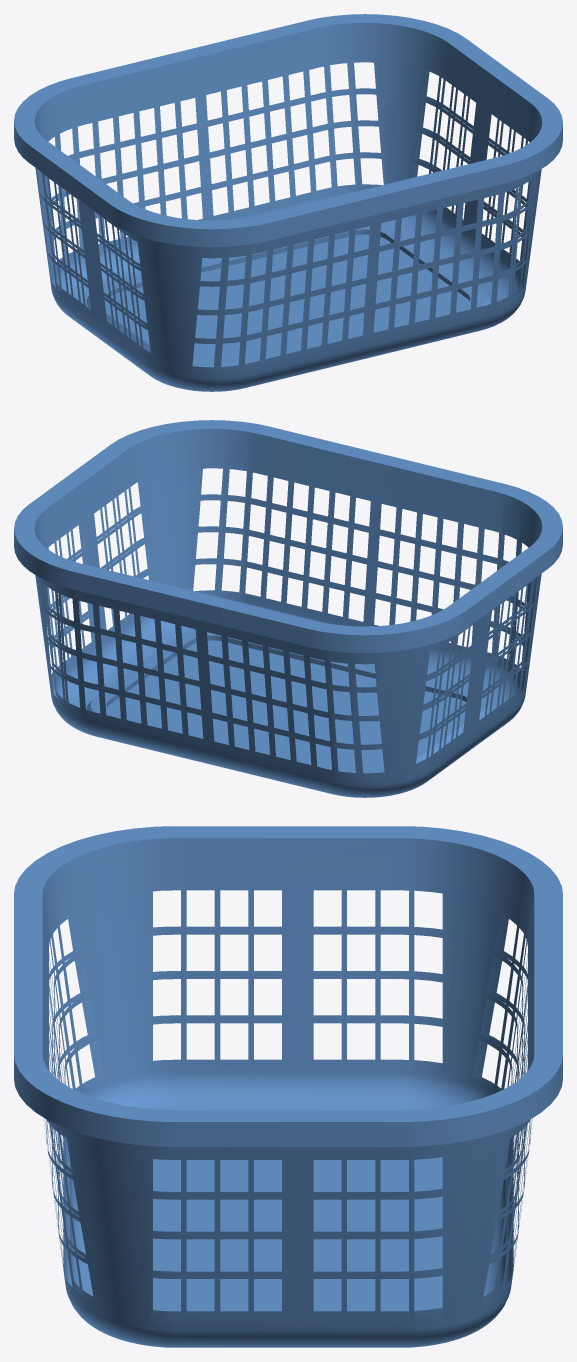
The model's file is laundry_basket.fbx.
3 views of the same model, one above another, from view 1: azimuth 30°, elevation 25°; view 2: azimuth 150°, elevation 25°; view 3: azimuth 270°, elevation 25° (orthographic). The views are drawn at different scales.
Visible parts, largest first — view 1: Group1; view 2: Group1; view 3: Group1.
Boxes of the visible parts, bbox=[...] form: Group1: bbox=[14, 14, 562, 391]; Group1: bbox=[14, 420, 562, 797]; Group1: bbox=[14, 826, 562, 1347].
Size of the model in its own units: 0.632 by 0.2567 by 0.4956.
